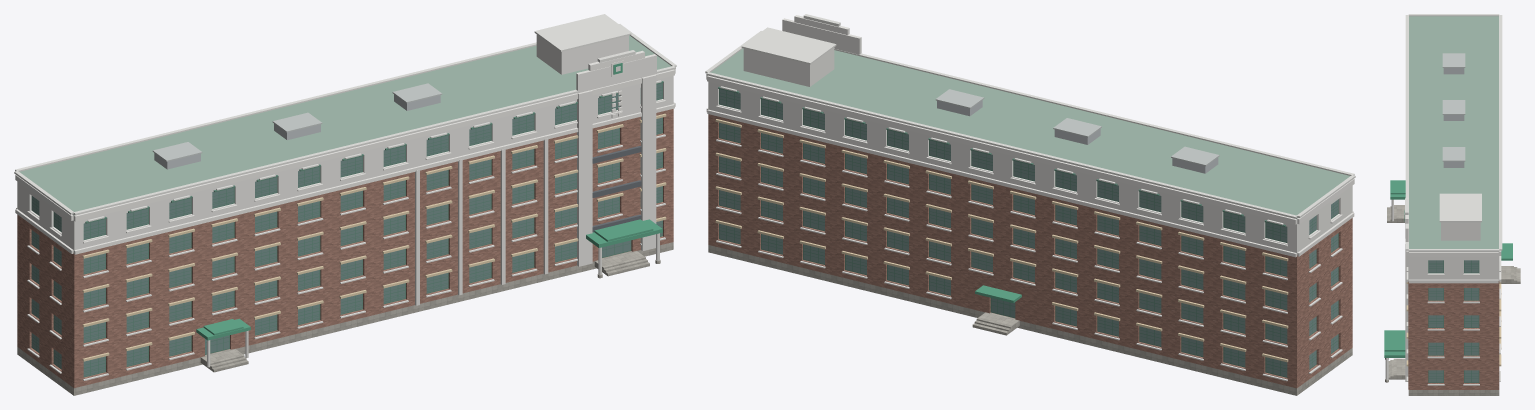
3 views of the same model, side by side, from view 1: azimuth 30°, elevation 25°; view 2: azimuth 150°, elevation 25°; view 3: azimuth 270°, elevation 25° (orthographic). The views are drawn at different scales.
Visible parts, largest first — view 1: main__brick, main__roof, main__panel, main__glass, main__band, main__frame, main__cap, main__greenframe, main__ochre, main__sill, main__stone, main__greencanopy (+4 smaller); view 2: main__brick, main__roof, main__sideglass, main__panel, main__band, main__frame, main__cap, main__ochre, main__sill, main__stone, main__greenframe, main__steel (+1 smaller); view 3: main__roof, main__brick, main__cap, main__panel, main__sideglass, main__band, main__greencanopy, main__steel, main__frame, main__sill, main__stone, main__metalroof (+8 smaller).
Part boxes in pixels (x1,y1,x2,y2): main__brick: (17, 109, 673, 388); main__roof: (19, 35, 671, 215); main__panel: (17, 34, 673, 305); main__glass: (83, 83, 662, 376); main__band: (15, 50, 675, 367); main__frame: (31, 83, 662, 377); main__cap: (14, 14, 676, 221); main__greenframe: (32, 81, 663, 375); main__ochre: (82, 113, 666, 361); main__sill: (27, 100, 665, 380); main__stone: (17, 242, 673, 395); main__greencanopy: (196, 63, 662, 340); main__brick: (708, 114, 1352, 388); main__roof: (710, 48, 1349, 218); main__sideglass: (719, 89, 1337, 376); main__panel: (708, 18, 1352, 254); main__band: (706, 15, 1354, 257); main__frame: (719, 89, 1338, 377); main__cap: (705, 14, 1355, 225); main__ochre: (715, 119, 1288, 362); main__sill: (716, 105, 1342, 381); main__stone: (708, 245, 1352, 395); main__greenframe: (718, 86, 1337, 372); main__steel: (935, 89, 1219, 166); main__roof: (1409, 16, 1498, 248); main__brick: (1408, 281, 1499, 389); main__cap: (1404, 14, 1502, 251); main__panel: (1405, 222, 1499, 381); main__sideglass: (1429, 260, 1478, 382); main__band: (1385, 197, 1501, 379); main__greencanopy: (1384, 180, 1512, 357); main__steel: (1442, 53, 1465, 161); main__frame: (1428, 260, 1479, 382); main__sill: (1406, 261, 1500, 385); main__stone: (1385, 358, 1499, 395); main__metalroof: (1443, 68, 1464, 167).
Bounding box in the file's own units: 64.66 × 21.37 × 15.77.
Materials: 17 (2 with a texture image).
